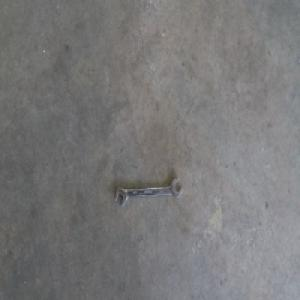Wrench: (115, 176, 182, 204)
